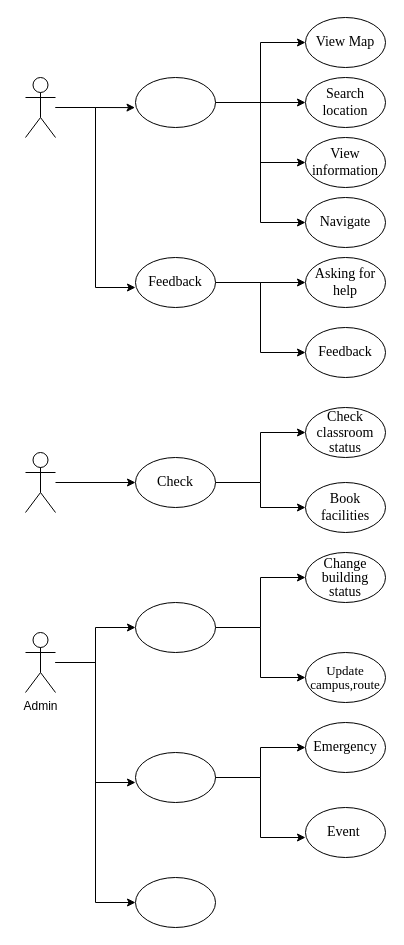
This 404x945 diagram has some shape labels left out. Each missing label, with the centre of its shape:
"Announce" goes at pixel 175 777.
"Answer" goes at pixel 175 902.
"Lecturer" goes at pixel 40 482.
"Manage" goes at pixel 175 627.
"Search" goes at pixel 175 102.
"Students" goes at pixel 40 107.
